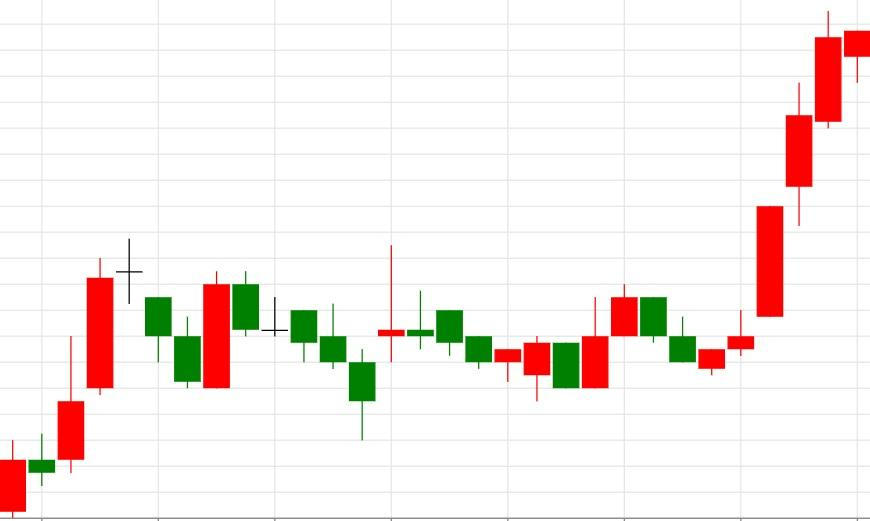bullish_engulfing_rise: (377, 246, 610, 402), (116, 238, 231, 389)
three_white_soldiers_rise: (610, 205, 784, 376)
